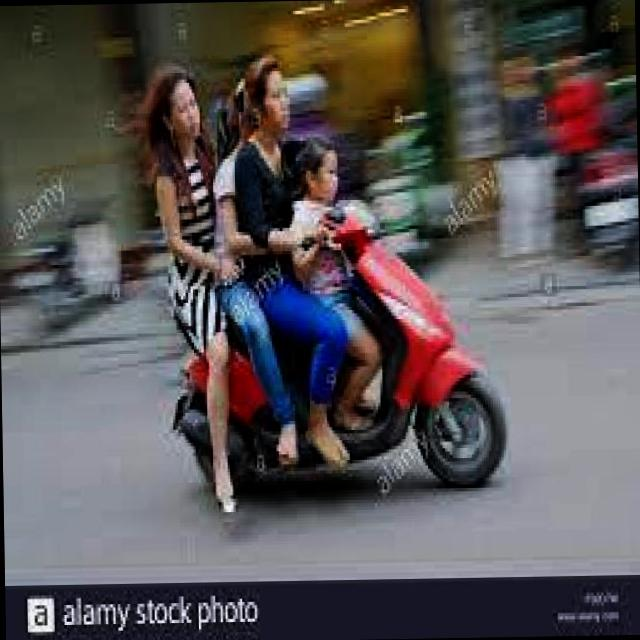motorcycle: (156, 190, 513, 520)
person: (134, 54, 253, 522), (198, 54, 296, 453), (285, 134, 389, 440), (248, 54, 318, 373)
rider_region: (140, 49, 508, 516)
